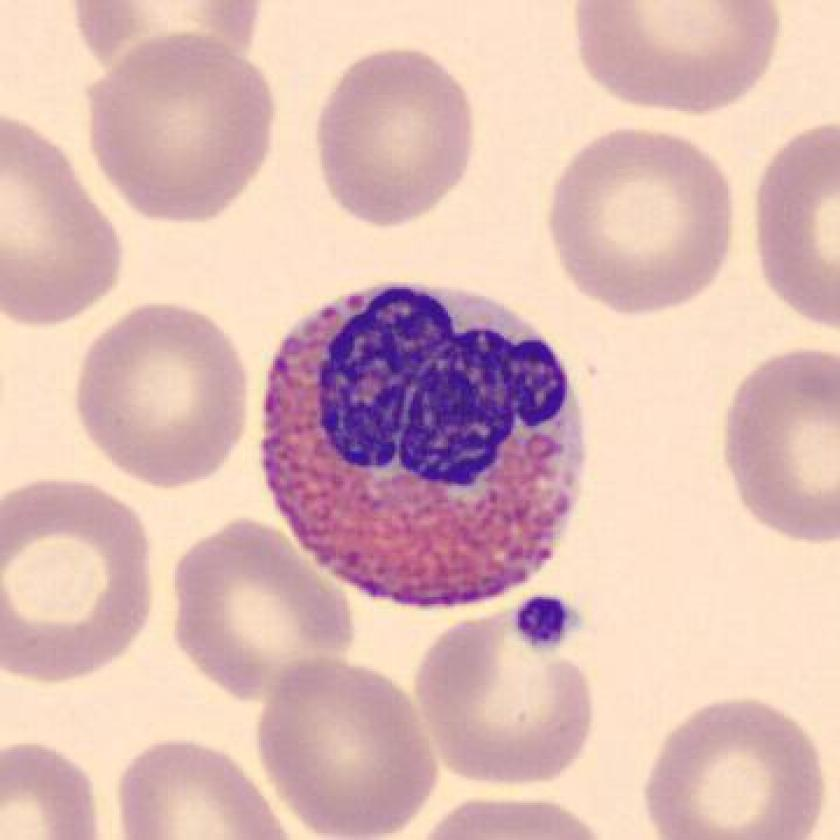eosinophil: (249, 267, 599, 617)
